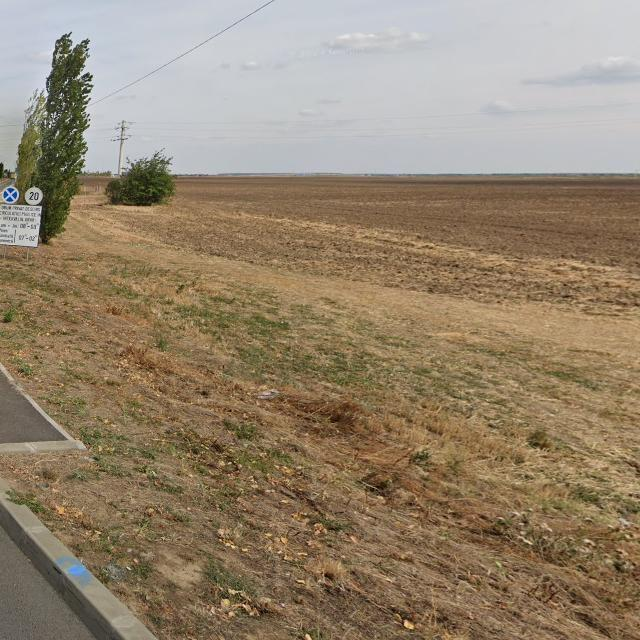forb_speed_over_20: (25, 187, 44, 206)
forb_waiting: (3, 186, 19, 203)
